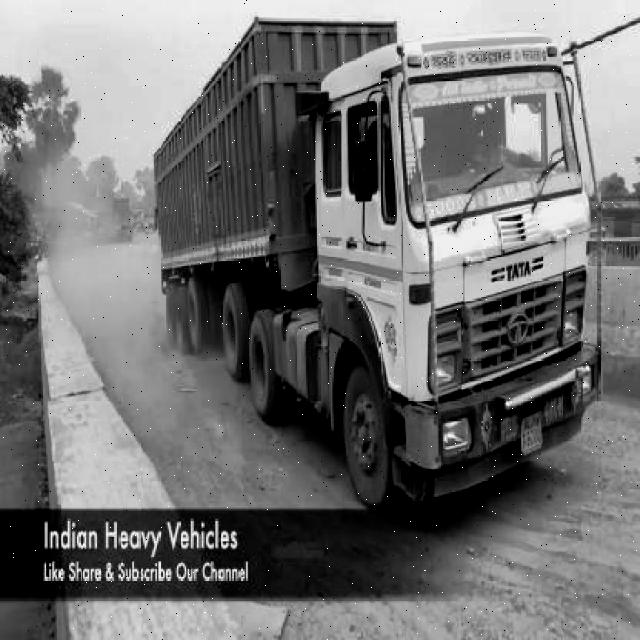HCV: (146, 120, 620, 484)
